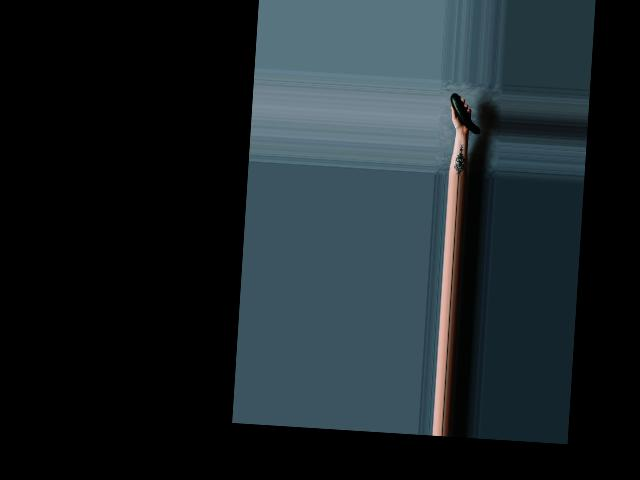cucumber: (448, 92, 482, 133)
